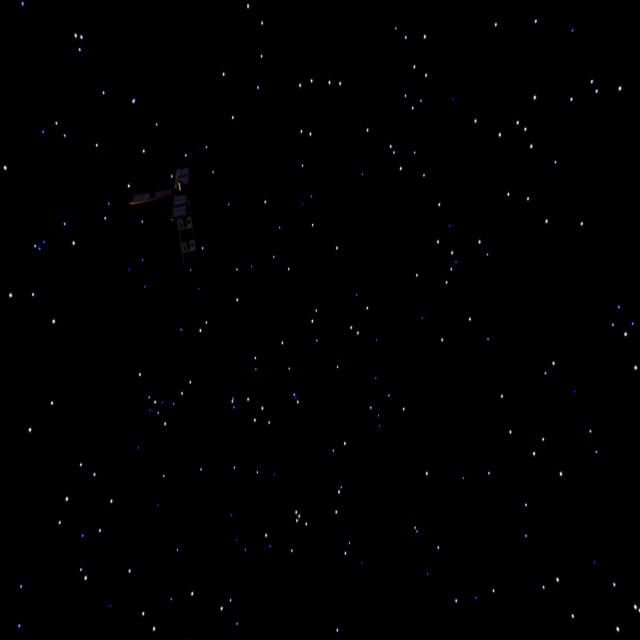satellite: (130, 164, 207, 265)
